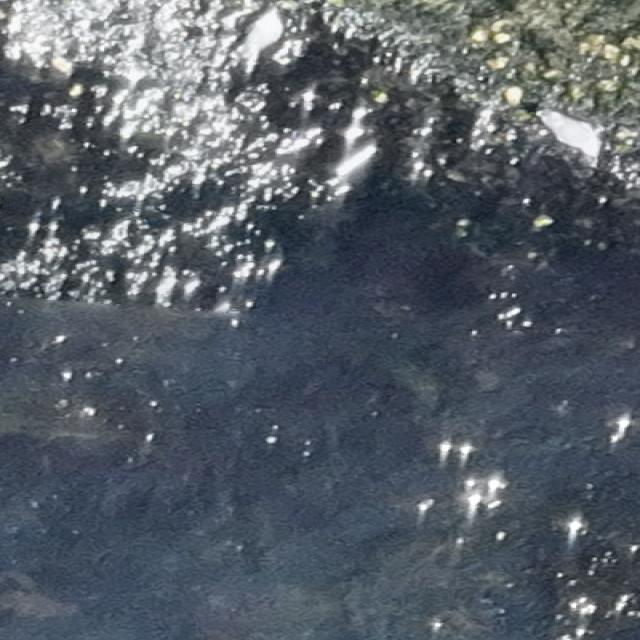umineko: (540, 109, 600, 157)
